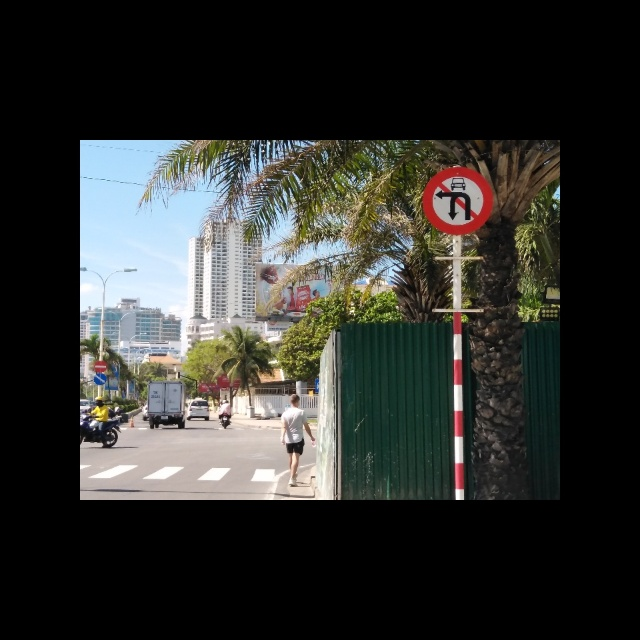Cấm xe ô tô quay đầu và rẽ trái: (422, 165, 494, 238)
